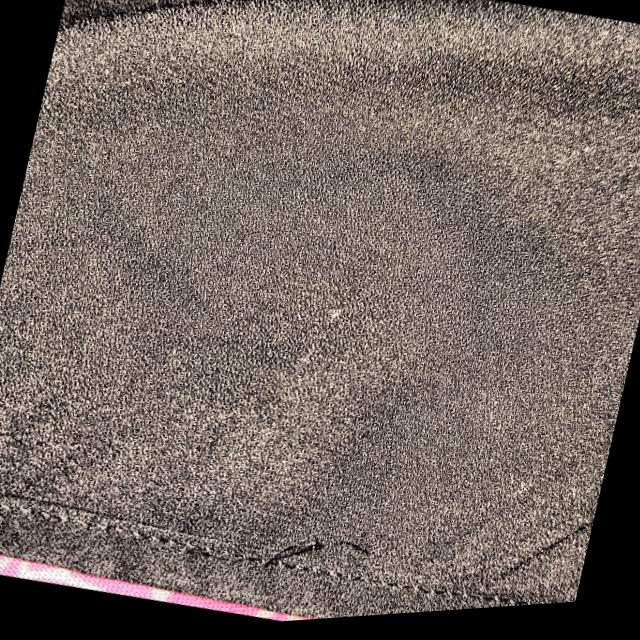Stitch: (190, 469, 399, 604)
